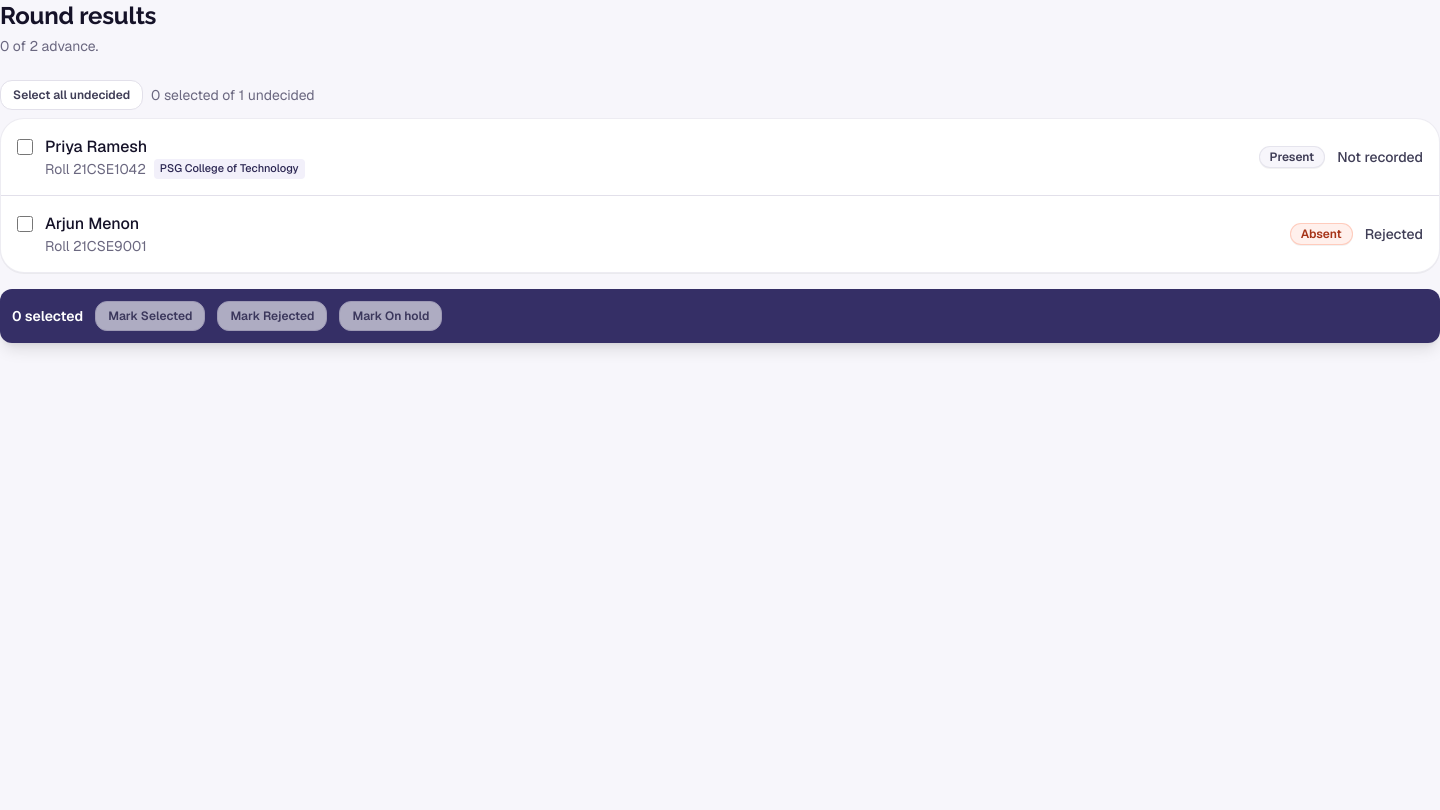
Test: ResultsPage — bulk recording (M2, approved 2026-08-21) › surfaces a failed save instead of pretending it worked
The image size is (1440, 810).
Click the checkbox named "priya ramesh": {"x": 25, "y": 147} x1=17 y1=139 x2=33 y2=155
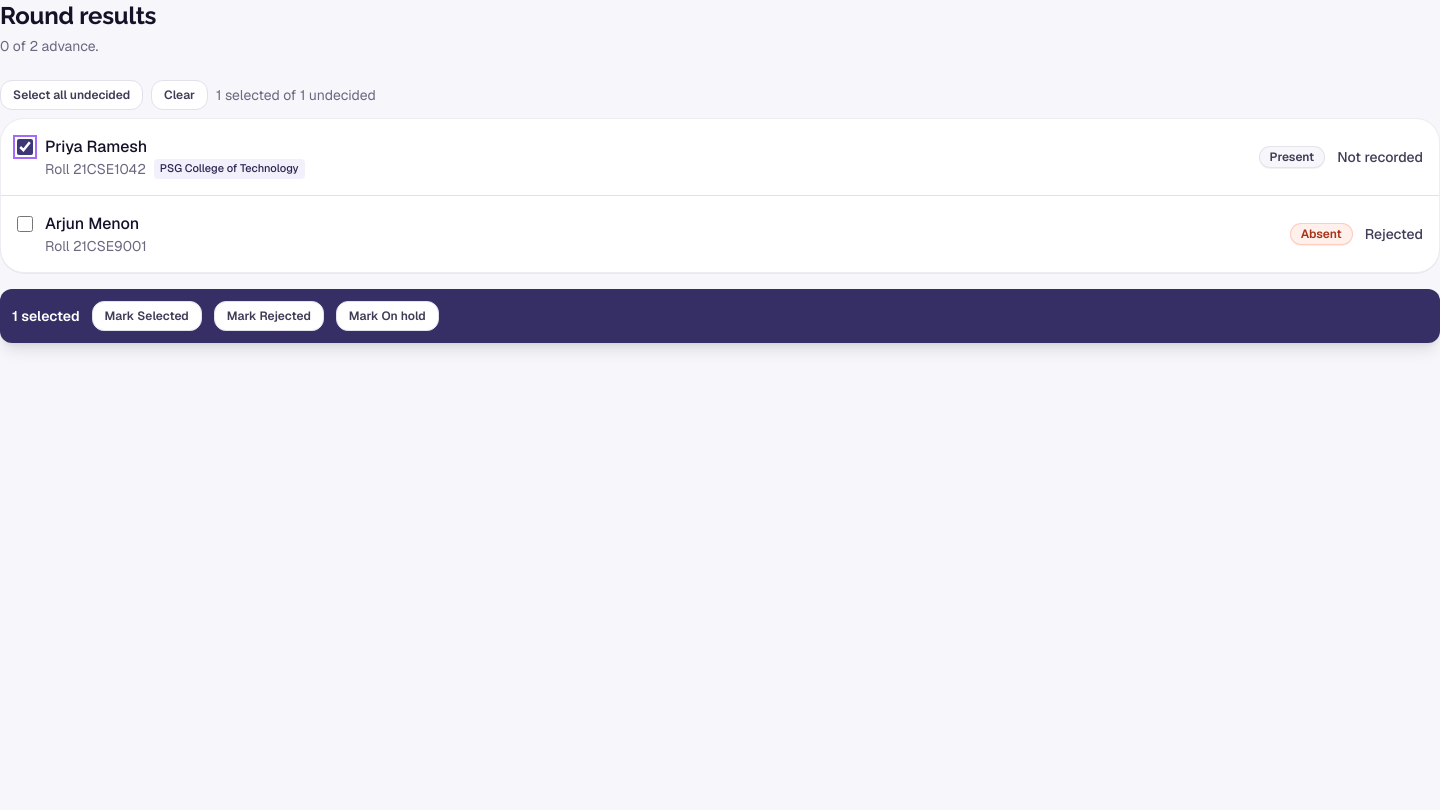
Click the button "Mark Selected": {"x": 147, "y": 316} x1=92 y1=301 x2=202 y2=331
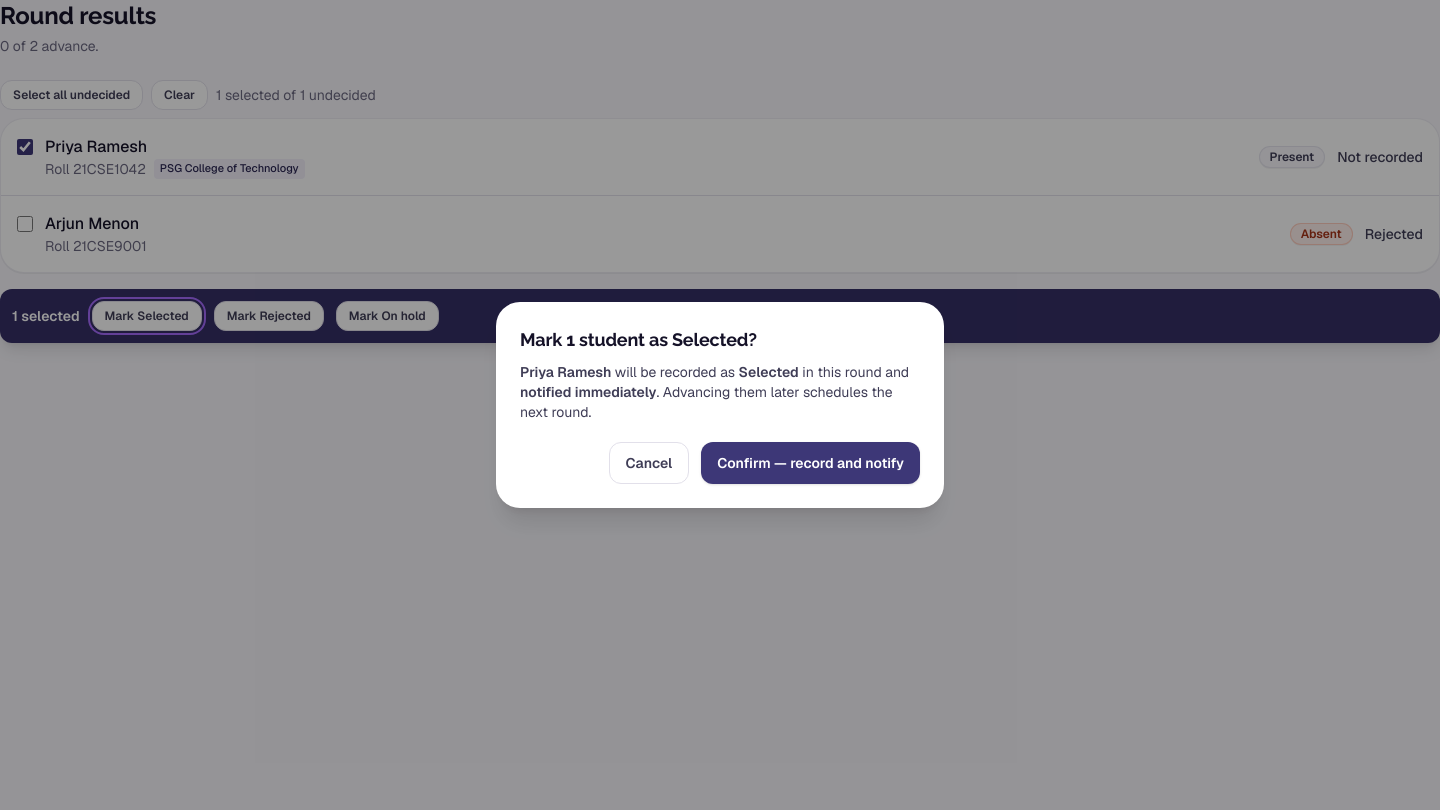
Click the button "Confirm — record and notify": {"x": 811, "y": 463} x1=701 y1=442 x2=920 y2=484
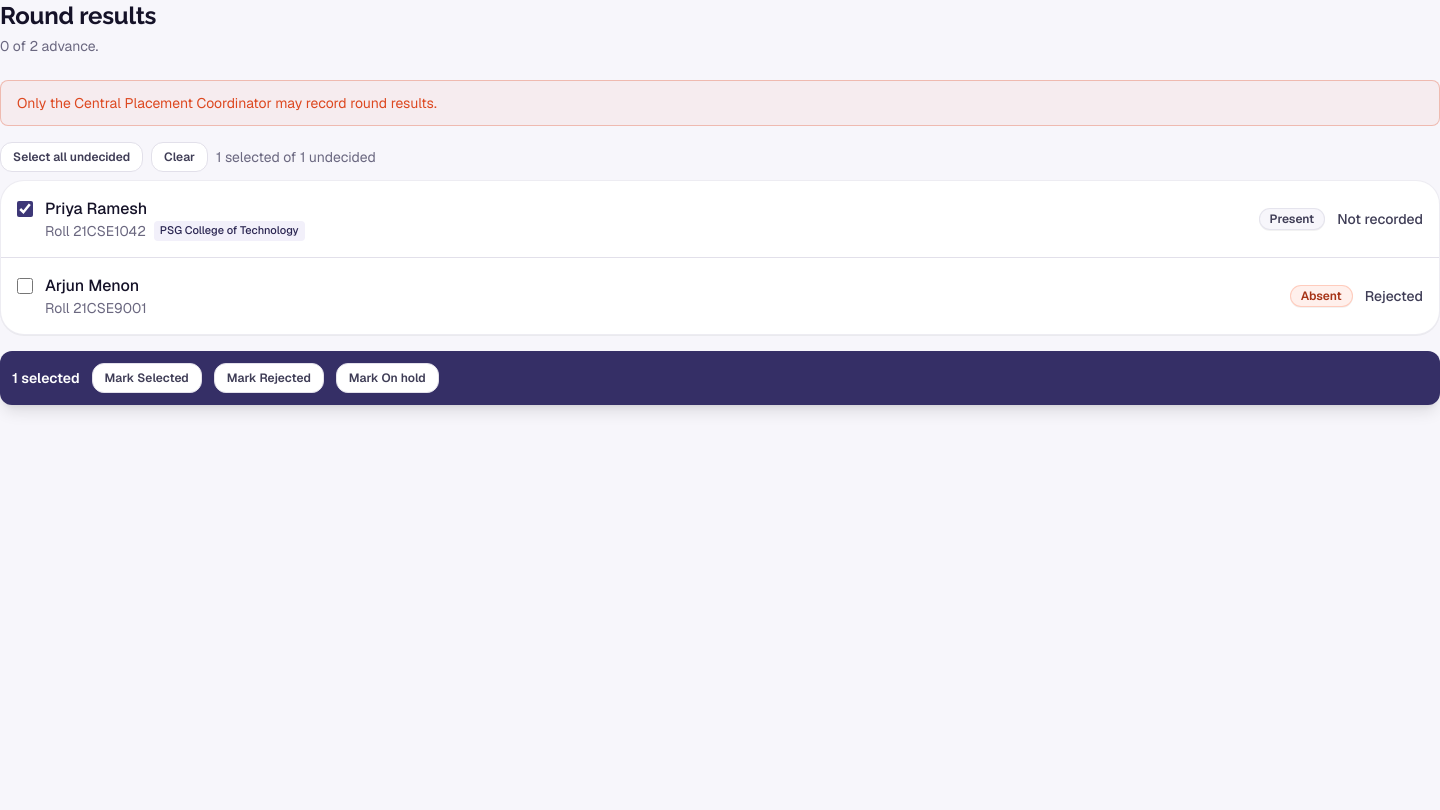
Check: the message shows "Central Placement Coordinator", box x1=17 y1=94 x2=437 y2=112
